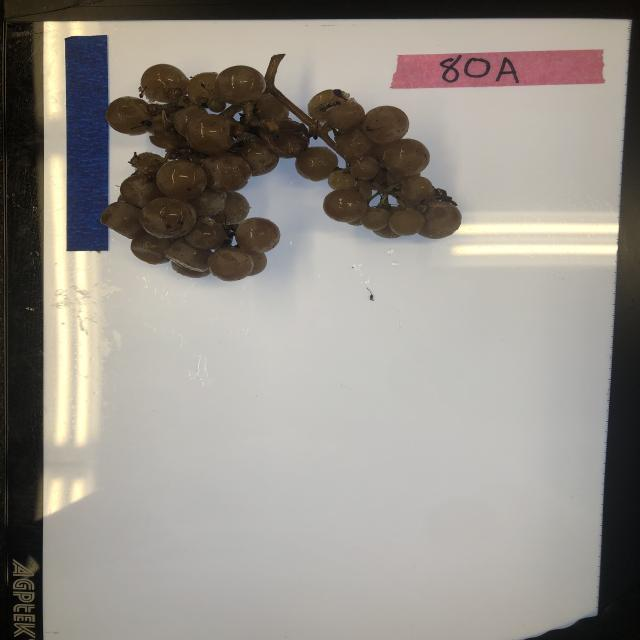grape_cluster: (104, 52, 464, 281)
index: (389, 49, 607, 90)
measure_label: (62, 34, 111, 252)
